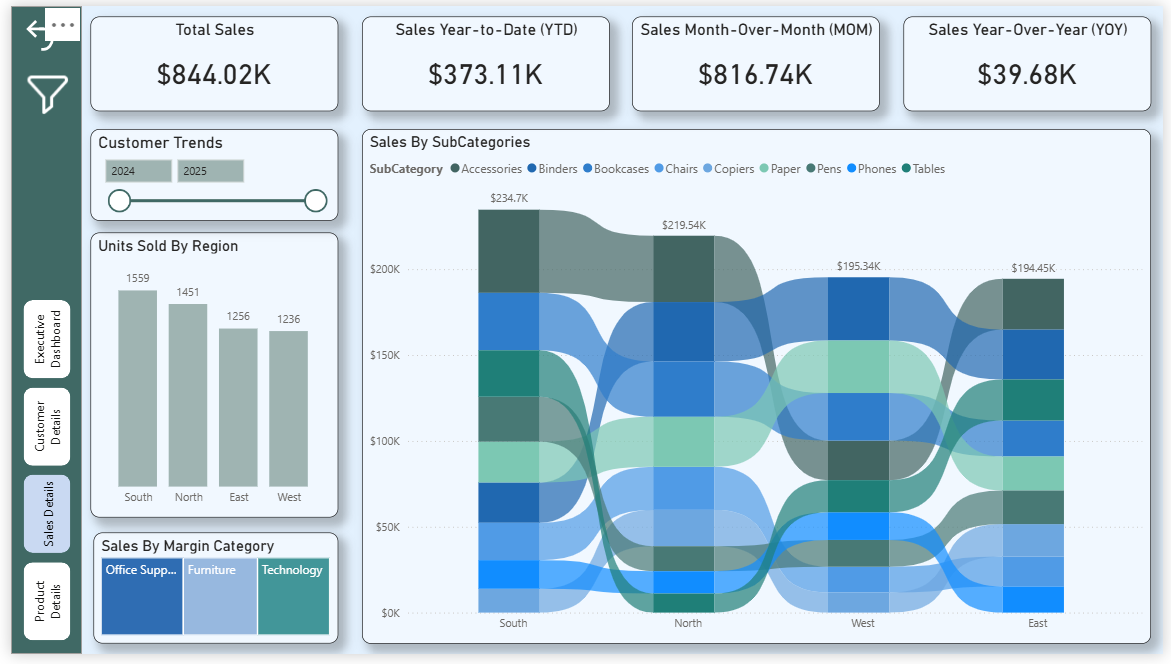

What the dashboard file says about the page in this screenshot:
{"tool":"powerbi","page":{"name":"Sales Details","canvas":[1280,720],"ordinal":2},"visuals":[{"type":"shape","box":[0,0,78.3,720],"z":0},{"type":"ribbonChart","title":"Sales By SubCategories","fields":{"Category":["Region_Dim.RegionName"],"Series":["Product_Dim.SubCategory"],"Y":["Measure_Table.Total Sales"]},"box":[390,136.7,876.7,571.7],"z":1000},{"type":"treemap","title":"Sales By Margin Category ","fields":{"Group":["Product_Dim.Category"],"Values":["Measure_Table.Total Sales"]},"box":[91.7,585,271.7,123.3],"z":2000},{"type":"columnChart","title":"Units Sold By Region","fields":{"Category":["Region_Dim.RegionName"],"Y":["Measure_Table.Total Units Sold"]},"box":[88.3,251.7,275,316.7],"z":3000},{"type":"slicer","title":"Customer Trends","fields":{"Values":["Date_Dim.Year"]},"box":[88.3,136.7,275,101.7],"z":4000},{"type":"card","title":"Total Sales","fields":{"Values":["Measure_Table.Total Sales"]},"box":[88.3,11.7,275,105],"z":5000},{"type":"card","title":"Sales Year-to-Date (YTD)","fields":{"Values":["Measure_Table.Sales YTD"]},"box":[389.4,12.1,275,105],"z":6000},{"type":"card","title":"Sales Year-Over-Year (YOY)","fields":{"Values":["Measure_Table.Sales YOY"]},"box":[991.7,11.7,275,105],"z":7000},{"type":"card","title":"Sales Month-Over-Month (MOM)","fields":{"Values":["Measure_Table.Sales MOM"]},"box":[690.6,12.1,275,105],"z":8000},{"type":"actionButton","box":[10,10,78.3,45],"z":9000},{"type":"pageNavigator","box":[10,326.7,60,378.3],"z":10000},{"type":"actionButton","box":[10,66.7,78.3,61.7],"z":11000}]}

Visuals, with their boxes in screenshot pixels (x1, y1, x2, y2), scaled from the page's 1280x720 canvas onto the 1171x664 screenshot:
shape: Rect(0, 0, 72, 663)
"Sales By SubCategories" ribbonChart: Rect(357, 126, 1159, 653)
"Sales By Margin Category " treemap: Rect(84, 540, 332, 653)
"Units Sold By Region" columnChart: Rect(81, 232, 332, 524)
"Customer Trends" slicer: Rect(81, 126, 332, 220)
"Total Sales" card: Rect(81, 11, 332, 108)
"Sales Year-to-Date (YTD)" card: Rect(356, 11, 608, 108)
"Sales Year-Over-Year (YOY)" card: Rect(907, 11, 1159, 108)
"Sales Month-Over-Month (MOM)" card: Rect(632, 11, 883, 108)
actionButton: Rect(9, 9, 81, 51)
pageNavigator: Rect(9, 301, 64, 650)
actionButton: Rect(9, 62, 81, 118)
